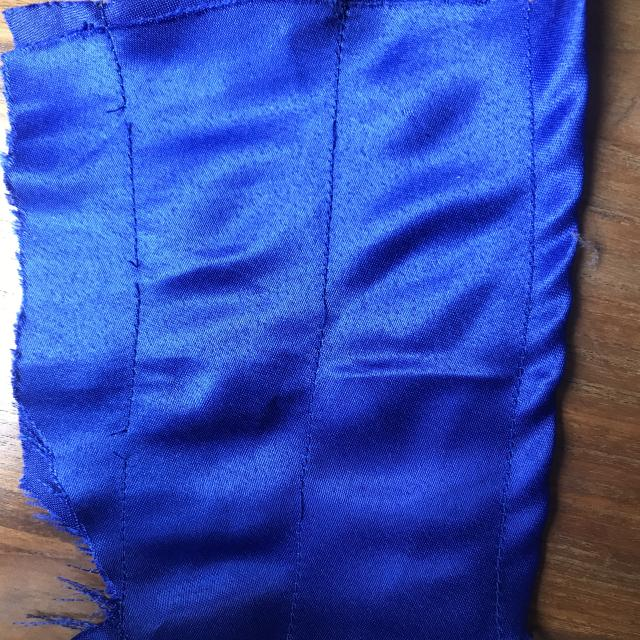broken: (88, 418, 153, 474), (100, 88, 150, 140), (116, 252, 160, 298)
skip: (309, 281, 351, 335)
